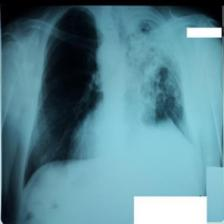tuberculosis: (18, 5, 201, 197)
